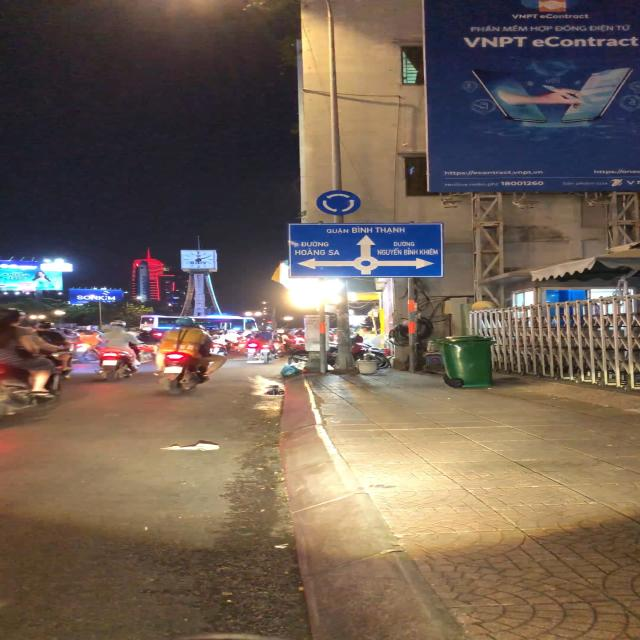Bien bao noi giao nhau chay theo vong xuyen: (317, 187, 362, 216)
